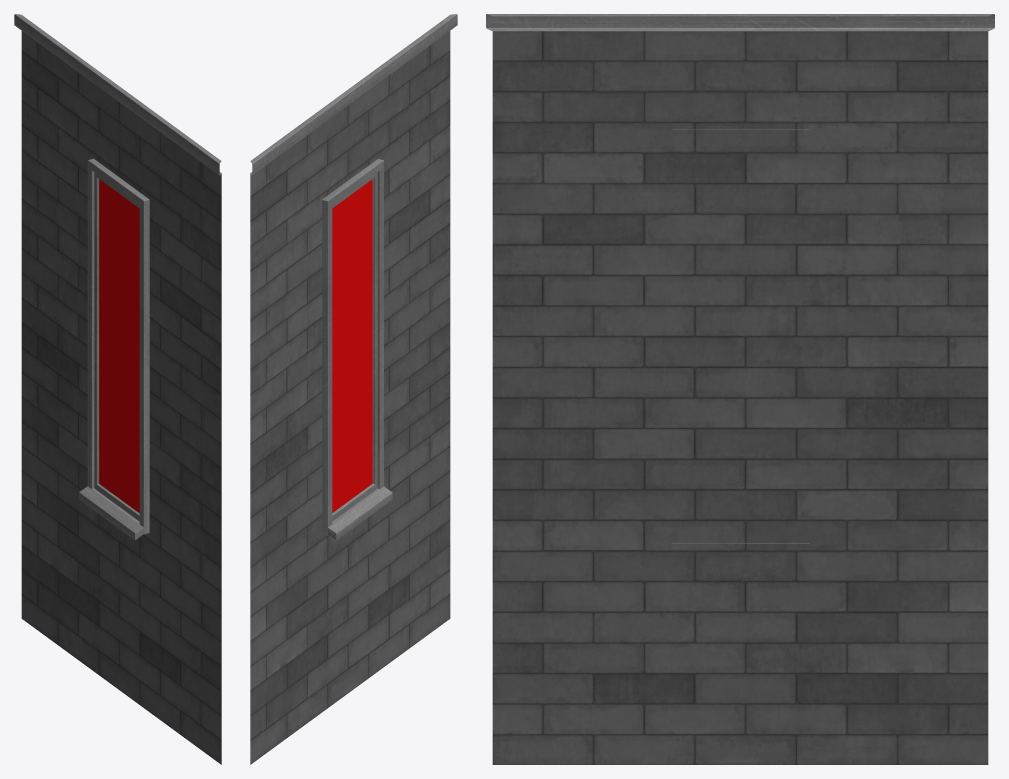
Rendered from SM_Mid_150_Window_01.fbx.
3 renders of one model, left to right at view 1: azimuth 30°, elevation 25°; view 2: azimuth 150°, elevation 25°; view 3: azimuth 270°, elevation 25°, orthographic. The views are drawn at different scales.
Parts seen in each view (by area): view 1: SM_Mid_150_Window_01_LOD0; view 2: SM_Mid_150_Window_01_LOD0; view 3: SM_Mid_150_Window_01_LOD0.
Boxes of the visible parts, x1,y1,x2,y2 form: SM_Mid_150_Window_01_LOD0: (14, 14, 221, 764); SM_Mid_150_Window_01_LOD0: (250, 14, 457, 764); SM_Mid_150_Window_01_LOD0: (486, 14, 994, 764).
Size of the model in its own units: 6.44 by 154 by 250.
